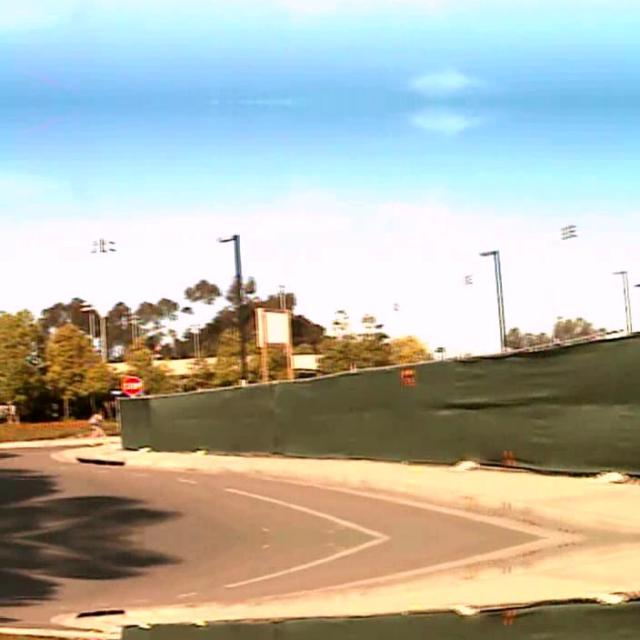stop: (122, 374, 142, 394)
